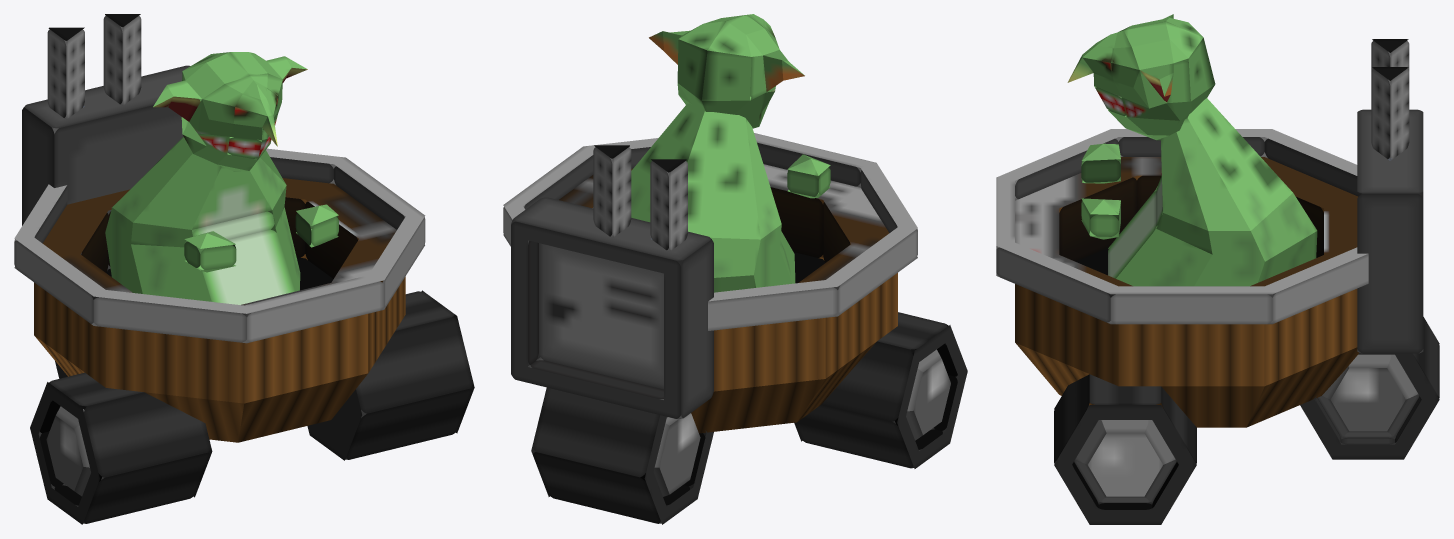
File: Goblin.fbx
3 views of the same model, side by side, from view 1: azimuth 30°, elevation 25°; view 2: azimuth 150°, elevation 25°; view 3: azimuth 270°, elevation 25° (orthographic). The views are drawn at different scales.
Visible parts, largest first — view 1: base, body, wheel, wheel_1, cube, head, cylinder_1, cylinder, hand, hand_1; view 2: base, cube, wheel_2, wheel, body, head, cylinder_1, cylinder, hand; view 3: base, body, wheel_1, cube, wheel_2, head, cylinder_1, hand, hand_1, cylinder.
Part boxes in pixels (x1,y1,x2,y2): base: (14, 148, 425, 442); body: (105, 137, 300, 304); wheel: (30, 372, 212, 524); wheel_1: (307, 290, 474, 460); cube: (22, 65, 190, 270); head: (153, 52, 307, 171); cylinder_1: (103, 14, 141, 105); cylinder: (47, 27, 84, 119); hand: (184, 231, 236, 272); hand_1: (295, 204, 338, 247); base: (503, 133, 917, 433); cube: (511, 197, 713, 418); wheel_2: (531, 387, 713, 524); wheel: (794, 312, 967, 468); body: (631, 103, 795, 292); head: (649, 14, 804, 128); cylinder_1: (593, 145, 631, 237); cylinder: (650, 159, 687, 251); hand: (787, 154, 830, 198); base: (996, 129, 1368, 427); body: (1108, 98, 1317, 286); wheel_1: (1054, 374, 1196, 524); cube: (1357, 109, 1423, 353); wheel_2: (1300, 317, 1439, 459); head: (1067, 14, 1215, 140); cylinder_1: (1371, 67, 1409, 160); hand: (1081, 143, 1120, 183); hand_1: (1081, 198, 1120, 239); cylinder: (1371, 39, 1409, 70).
Bounding box in the file's own units: 125 × 128 × 126.
1 material, 1 textured.
